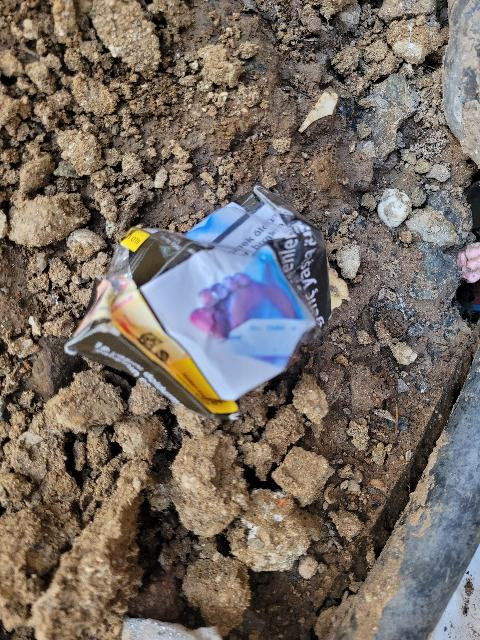Plastik: (64, 180, 355, 432)
